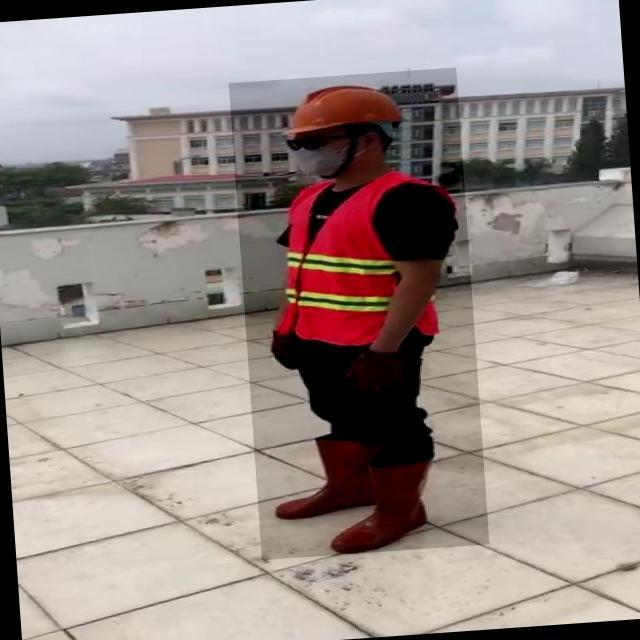Gloves: (340, 350, 409, 396)
Helmet: (283, 75, 413, 142)
Human: (228, 67, 489, 560)
Safety Boot: (321, 457, 436, 554), (274, 434, 389, 519)
Safety Vest: (271, 169, 442, 346)
